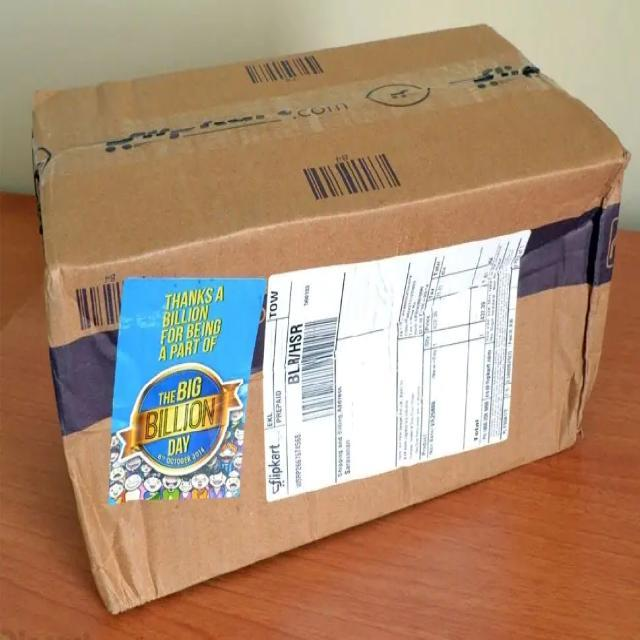cardboxes: (30, 24, 631, 617)
